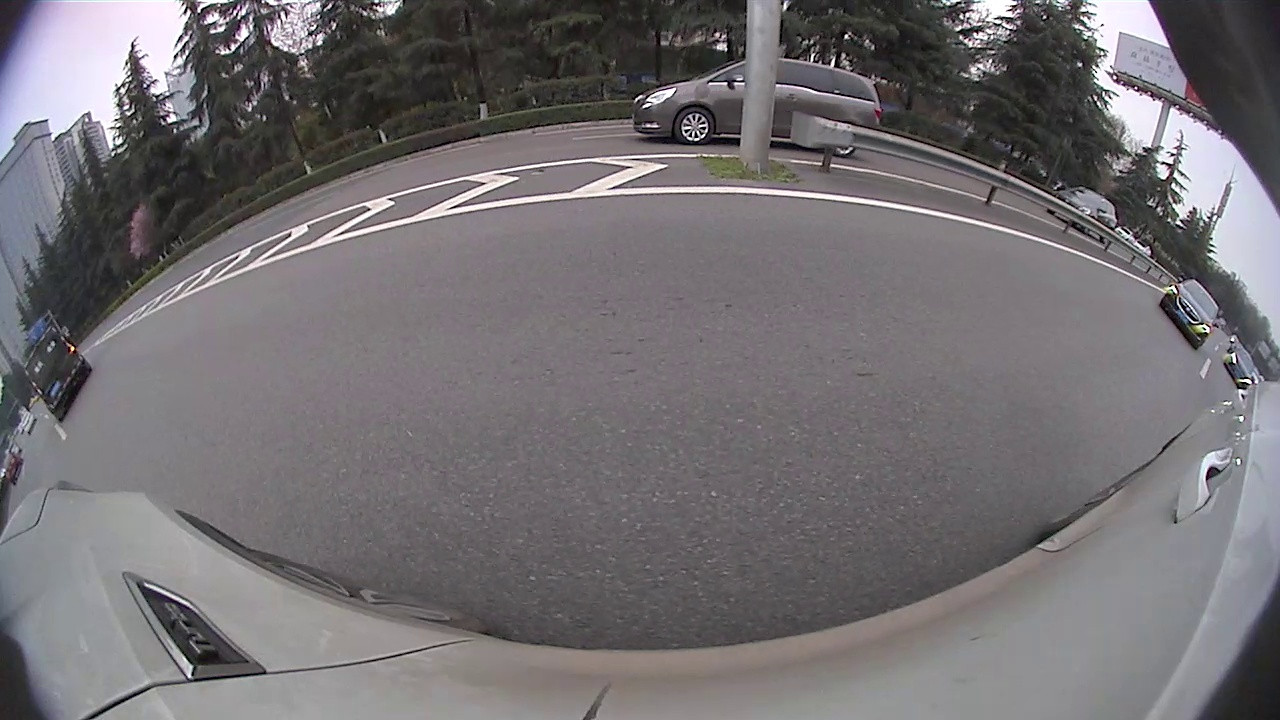car: (1031, 181, 1277, 415), (352, 150, 528, 243), (712, 148, 811, 206), (609, 149, 674, 193), (799, 165, 847, 202), (841, 172, 887, 205), (556, 158, 597, 188)
front: (1044, 247, 1079, 287), (513, 184, 525, 211)
rear: (1221, 358, 1266, 413), (462, 197, 480, 232), (736, 180, 745, 202)
